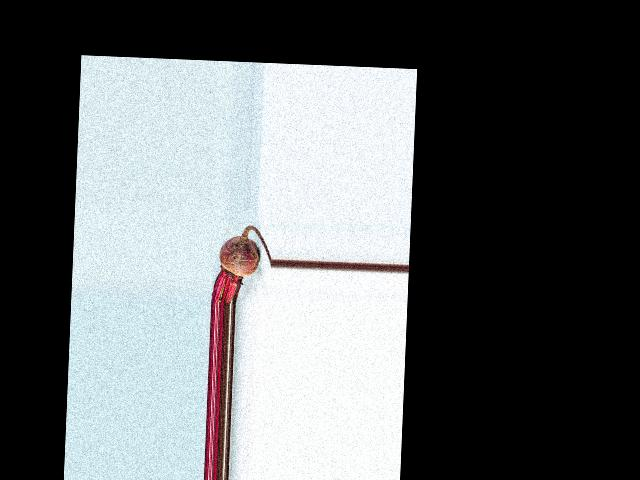beet: (211, 224, 272, 306)
